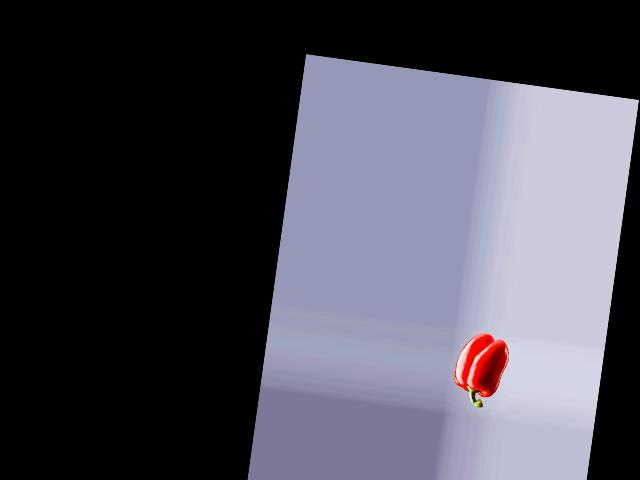bell_pepper: (447, 332, 512, 411)
